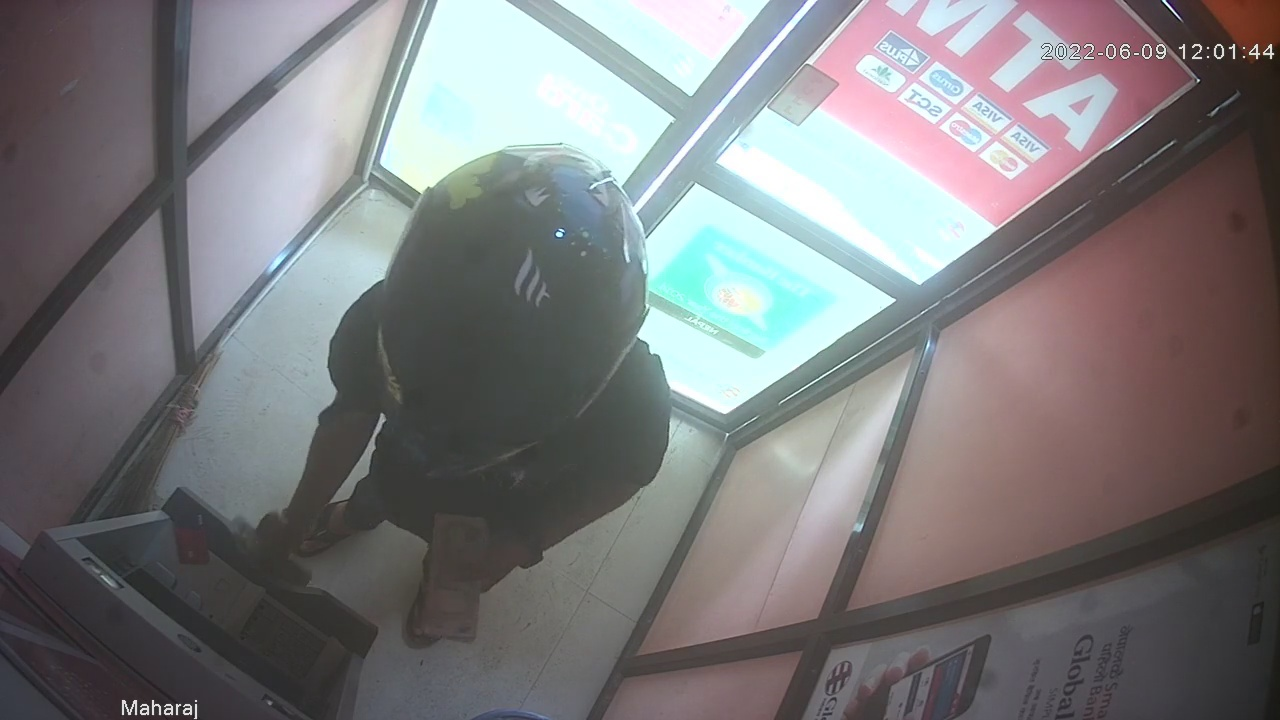helmet: (372, 145, 651, 474)
person: (252, 142, 672, 651)
